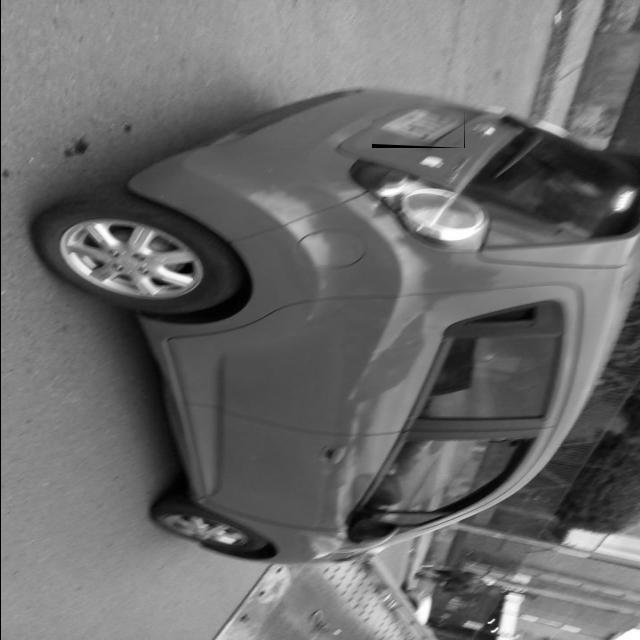plate: (371, 109, 464, 147)
